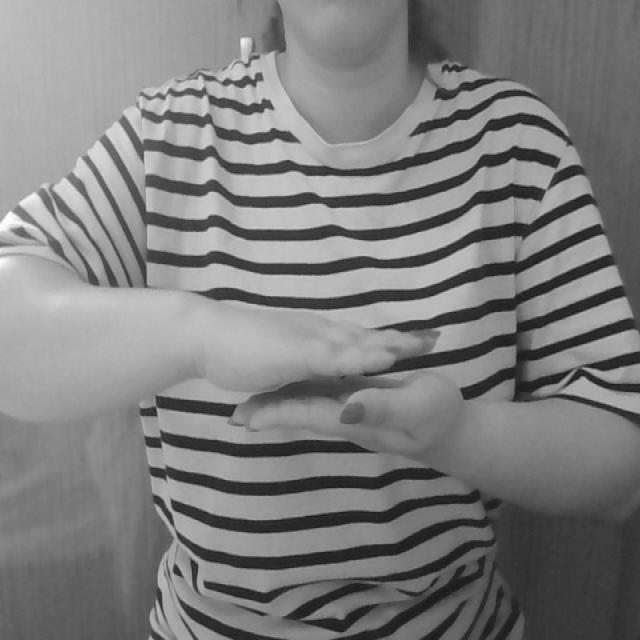Arkadas: (165, 289, 485, 472)
